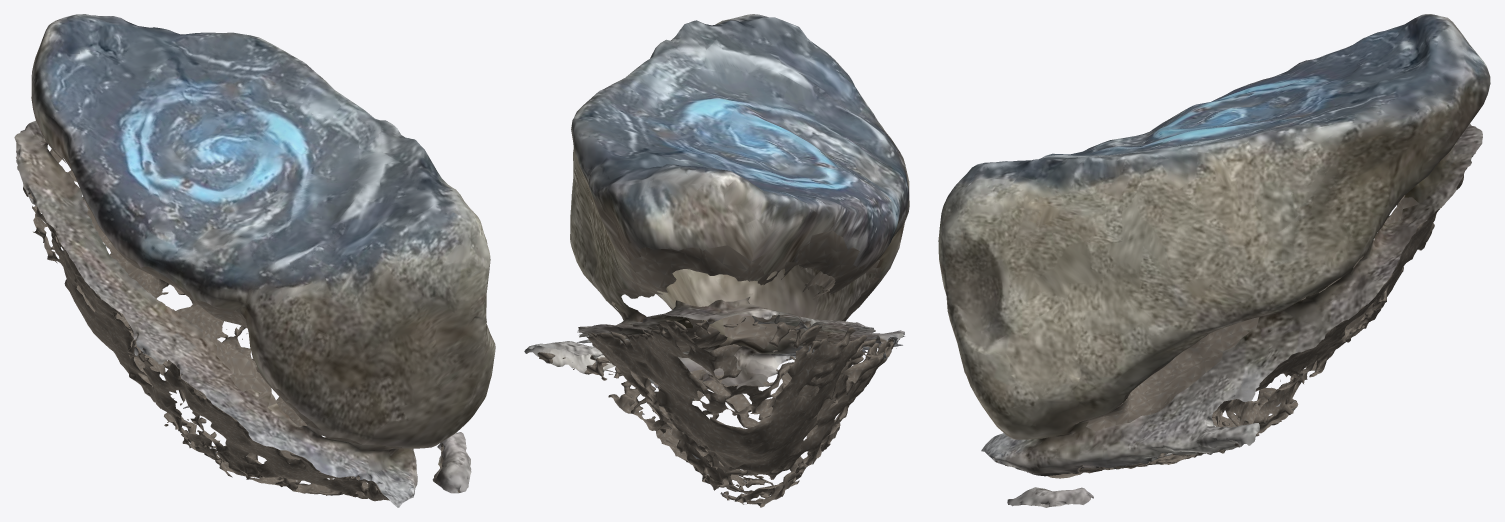
Rendered from mesh_lowpoly.obj.
3 views of the same model, side by side, from view 1: azimuth 30°, elevation 25°; view 2: azimuth 150°, elevation 25°; view 3: azimuth 270°, elevation 25° (orthographic). The views are drawn at different scales.
Size of the model in its own units: 0.5409 by 0.6404 by 0.7996.
5 materials, 5 textured.
